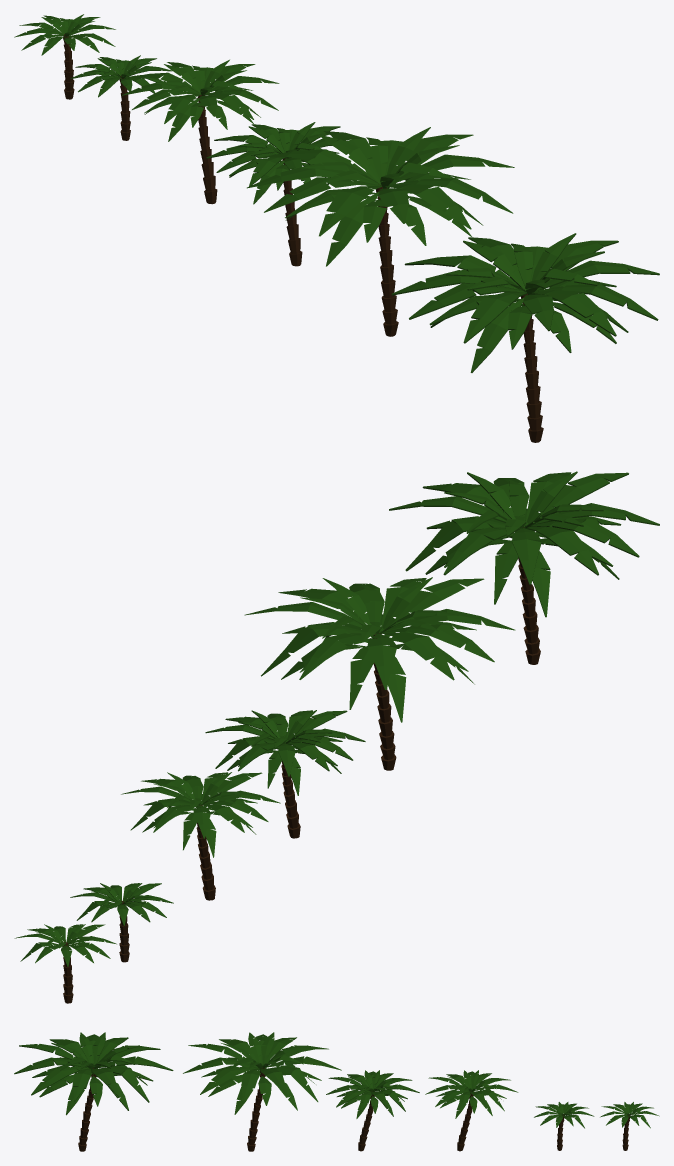
Rendered from 3LP Palm trees.obj.
3 renders of one model, top to bottom at view 1: azimuth 30°, elevation 25°; view 2: azimuth 150°, elevation 25°; view 3: azimuth 270°, elevation 25°, orthographic. The views are drawn at different scales.
Parts seen in each view (by area): view 1: Palm_Tree_L_T_Cube.001, Plam_Tree_L_Cube.002, Palm_Tree_M_Cube.005, Palm_Tree_M_T_Cube, Palm_Tree_S_Plane.002, Palm_Tree_S_T_Cube.003; view 2: Palm_Tree_L_T_Cube.001, Plam_Tree_L_Cube.002, Palm_Tree_M_T_Cube, Palm_Tree_M_Cube.005, Palm_Tree_S_T_Cube.003, Palm_Tree_S_Plane.002; view 3: Palm_Tree_L_T_Cube.001, Plam_Tree_L_Cube.002, Palm_Tree_M_T_Cube, Palm_Tree_M_Cube.005, Palm_Tree_S_T_Cube.003, Palm_Tree_S_Plane.002.
Part boxes in pixels (left/top/right/bottom): Palm_Tree_L_T_Cube.001: left=391, top=233, right=659, bottom=442; Plam_Tree_L_Cube.002: left=247, top=127, right=514, bottom=336; Palm_Tree_M_Cube.005: left=121, top=59, right=279, bottom=204; Palm_Tree_M_T_Cube: left=206, top=122, right=352, bottom=266; Palm_Tree_S_Plane.002: left=14, top=14, right=115, bottom=99; Palm_Tree_S_T_Cube.003: left=70, top=55, right=172, bottom=140; Palm_Tree_L_T_Cube.001: left=389, top=471, right=659, bottom=664; Plam_Tree_L_Cube.002: left=244, top=577, right=515, bottom=770; Palm_Tree_M_T_Cube: left=205, top=710, right=365, bottom=838; Palm_Tree_M_Cube.005: left=121, top=772, right=280, bottom=900; Palm_Tree_S_T_Cube.003: left=70, top=883, right=173, bottom=962; Palm_Tree_S_Plane.002: left=14, top=924, right=116, bottom=1003; Palm_Tree_L_T_Cube.001: left=14, top=1032, right=173, bottom=1151; Plam_Tree_L_Cube.002: left=183, top=1032, right=341, bottom=1151; Palm_Tree_M_T_Cube: left=326, top=1070, right=419, bottom=1151; Palm_Tree_M_Cube.005: left=425, top=1070, right=518, bottom=1151; Palm_Tree_S_T_Cube.003: left=534, top=1102, right=594, bottom=1150; Palm_Tree_S_Plane.002: left=600, top=1102, right=659, bottom=1150.
Bounding box in the file's own units: 18.38 × 13.29 × 75.54.
